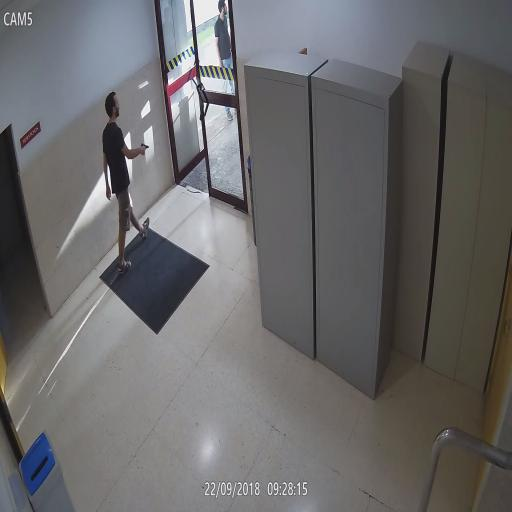Handgun: (138, 141, 149, 155)
